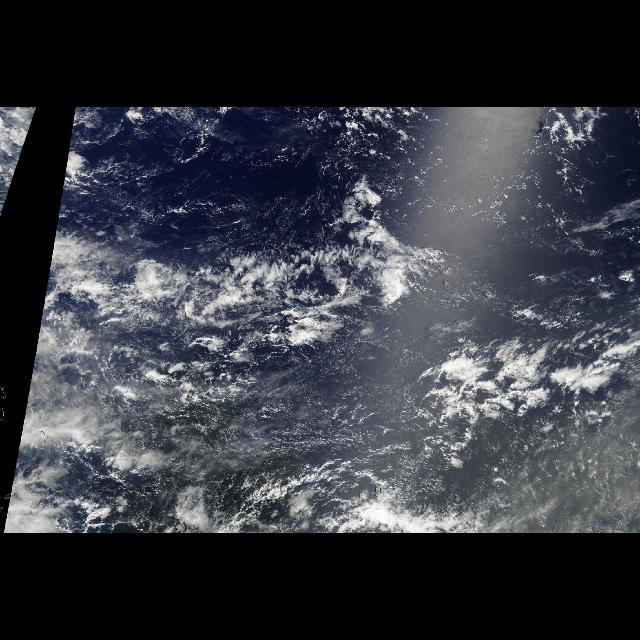Sugar: (284, 340, 426, 462)
